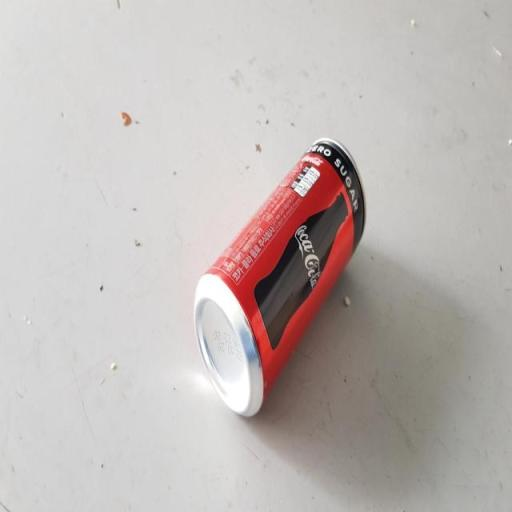metal: (157, 100, 385, 440)
